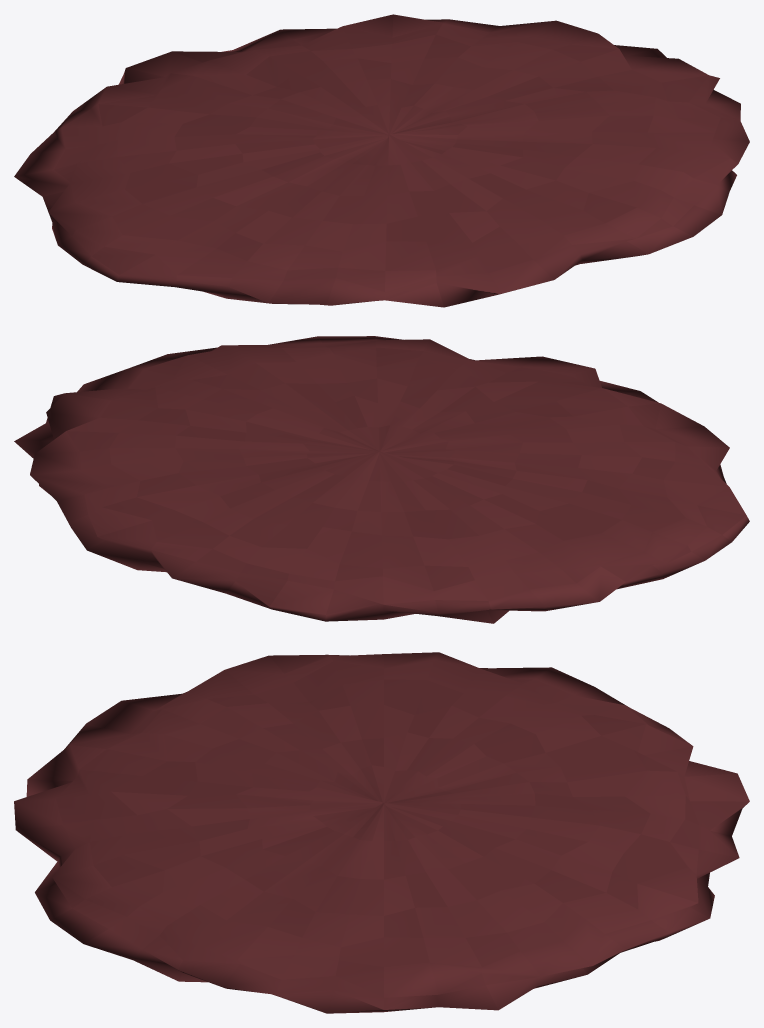
Rendered from PomegranateMolasses.glb.
The picture shows the model from 3 angles, top to bottom: view 1: azimuth 30°, elevation 25°; view 2: azimuth 150°, elevation 25°; view 3: azimuth 270°, elevation 25°; orthographic projection. The views are drawn at different scales.
Parts seen in each view (by area): view 1: PomegranateMolasses; view 2: PomegranateMolasses; view 3: PomegranateMolasses.
Boxes of the visible parts, x1,y1,x2,y2 form: PomegranateMolasses: (14,14,749,307); PomegranateMolasses: (14,336,749,623); PomegranateMolasses: (14,652,749,1013).
Size of what is drawn, in the model's own units: 0.0727 by 0.00579 by 0.0628.
